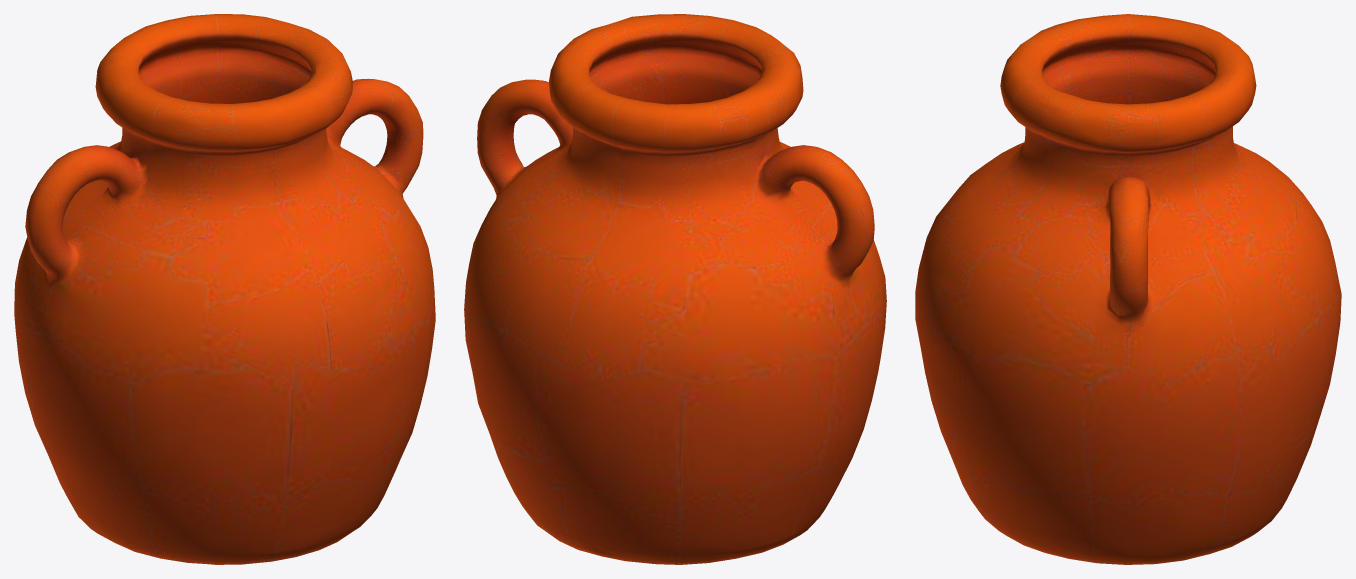
The model's file is item08_terracotta_pot.glb.
3 views of the same model, side by side, from view 1: azimuth 30°, elevation 25°; view 2: azimuth 150°, elevation 25°; view 3: azimuth 270°, elevation 25° (orthographic).
Visible parts, largest first — view 1: geometry_0; view 2: geometry_0; view 3: geometry_0.
Part boxes in pixels (<box>): geometry_0: <box>14,14,435,564</box>; geometry_0: <box>464,14,886,564</box>; geometry_0: <box>915,14,1341,564</box>.
Bounding box in the file's own units: 0.8579 × 0.9507 × 0.8057.
Materials: 1 (1 with a texture image).
